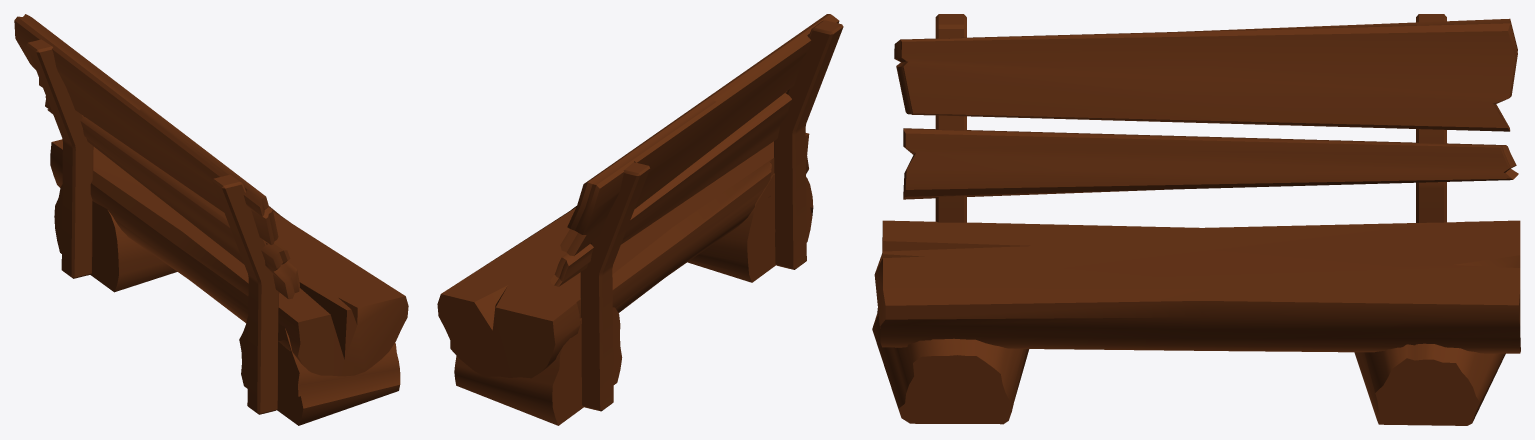
Rendered from Log_Bench.fbx.
3 views of the same model, side by side, from view 1: azimuth 30°, elevation 25°; view 2: azimuth 150°, elevation 25°; view 3: azimuth 270°, elevation 25° (orthographic). The views are drawn at different scales.
Visible parts, largest first — view 1: Log Bench, Back, Stand.001, Logstand; view 2: Log Bench, Back, Stand.001, Logstand; view 3: Back, Log Bench, Logstand, Stand.001.
Part boxes in pixels (x1,y1,x2,y2): Log Bench: (50, 139, 408, 376); Back: (14, 14, 299, 299); Stand.001: (26, 39, 279, 414); Logstand: (54, 184, 400, 425); Log Bench: (437, 133, 809, 378); Back: (550, 14, 839, 286); Stand.001: (580, 20, 843, 411); Logstand: (454, 173, 813, 425); Back: (894, 18, 1518, 199); Log Bench: (874, 220, 1520, 353); Logstand: (872, 308, 1505, 425); Stand.001: (935, 14, 1446, 222).
Bounding box in the file's own units: 102 × 143 × 266.
